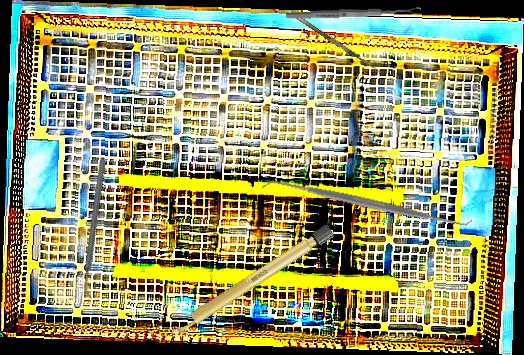Chopper: (34, 157, 158, 300)
Hook Surgical: (288, 5, 390, 78)
Scalpel Handle: (167, 223, 335, 340)
Spatula Surgical: (261, 168, 473, 239)
Surgical Spoon: (285, 6, 422, 21)
